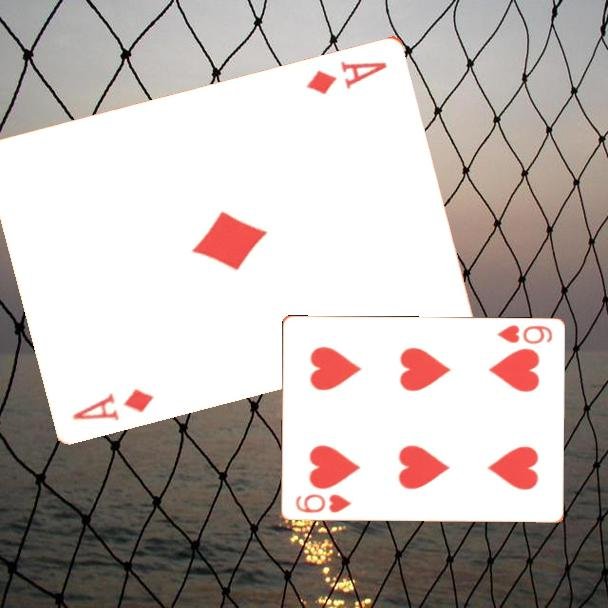d01: (303, 57, 391, 97), (69, 384, 157, 423)
h06: (291, 491, 354, 516), (493, 322, 554, 347)
